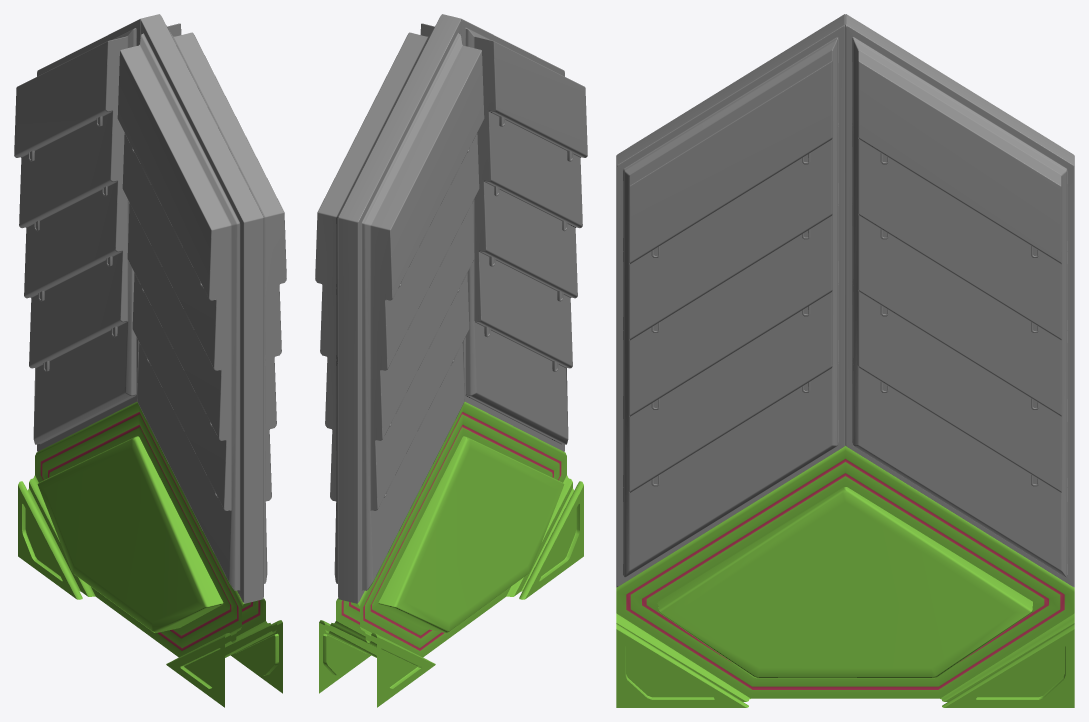
File: prop_Gate.FBX
The picture shows the model from 3 angles, left to right: view 1: azimuth 30°, elevation 25°; view 2: azimuth 150°, elevation 25°; view 3: azimuth 270°, elevation 25°; orthographic projection. The views are drawn at different scales.
Parts seen in each view (by area): view 1: left, right, bottom; view 2: right, left, bottom; view 3: right, left, bottom.
Boxes of the visible parts, x1,y1,x2,y2 form: left: (117,14,286,603); right: (14,14,181,451); bottom: (18,402,282,707); right: (315,14,484,603); left: (420,14,587,451); bottom: (319,402,583,707); right: (845,14,1074,587); left: (616,14,845,587); bottom: (616,446,1074,707).
Bounding box in the file's own units: 134 × 999 × 616.
